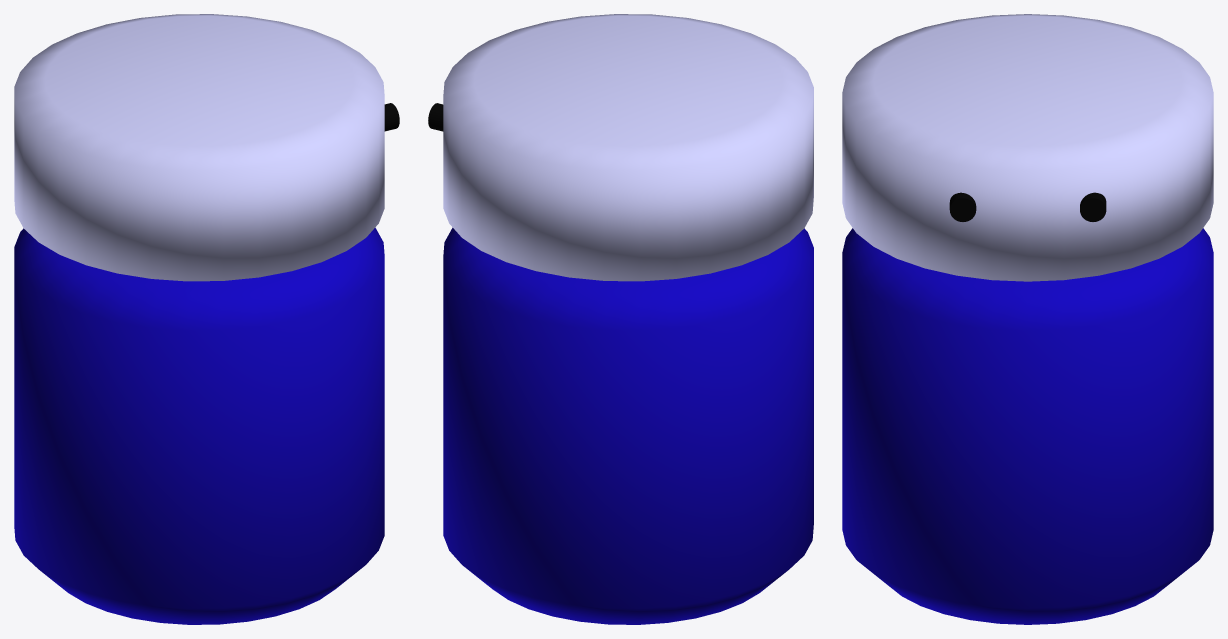
Rendered from justaguy.fbx.
3 views of the same model, side by side, from view 1: azimuth 30°, elevation 25°; view 2: azimuth 150°, elevation 25°; view 3: azimuth 270°, elevation 25° (orthographic).
Visible parts, largest first — view 1: Cylinder, Cylinder.001; view 2: Cylinder, Cylinder.001; view 3: Cylinder, Cylinder.001, Cylinder.002, Cylinder.003.
Boxes of the visible parts, left/top/right/bottom form: Cylinder: left=14, top=227, right=384, bottom=624; Cylinder.001: left=14, top=14, right=384, bottom=281; Cylinder: left=443, top=227, right=813, bottom=624; Cylinder.001: left=443, top=14, right=813, bottom=281; Cylinder: left=842, top=228, right=1213, bottom=624; Cylinder.001: left=842, top=14, right=1213, bottom=281; Cylinder.002: left=949, top=192, right=976, bottom=221; Cylinder.003: left=1080, top=192, right=1106, bottom=221.
Size of the model in its own units: 200 by 285 by 200.
